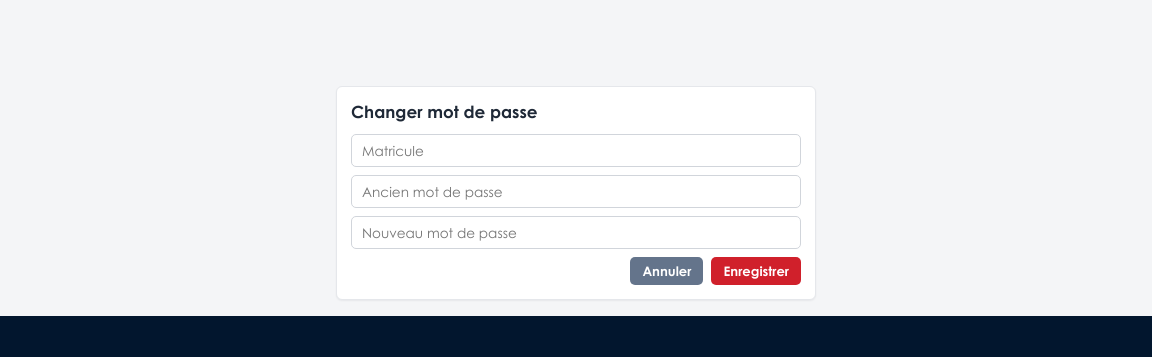
Test: ChangePassword › shows success message after successful password change
Step 1. Type "EMP01" into the field with placeholder "Matricule" → (576, 150), box [351,134,801,167]
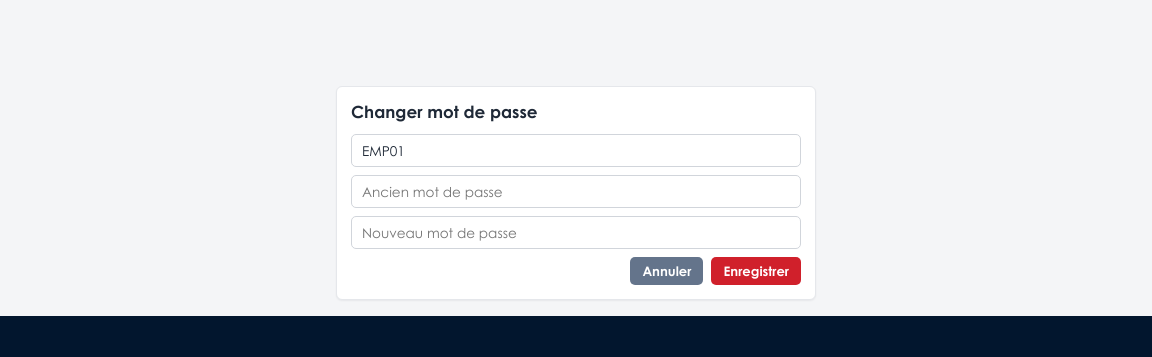
Step 2. Type "OldPass1!" into the password field with placeholder "Ancien mot de passe" → (576, 192), box [351,175,801,208]
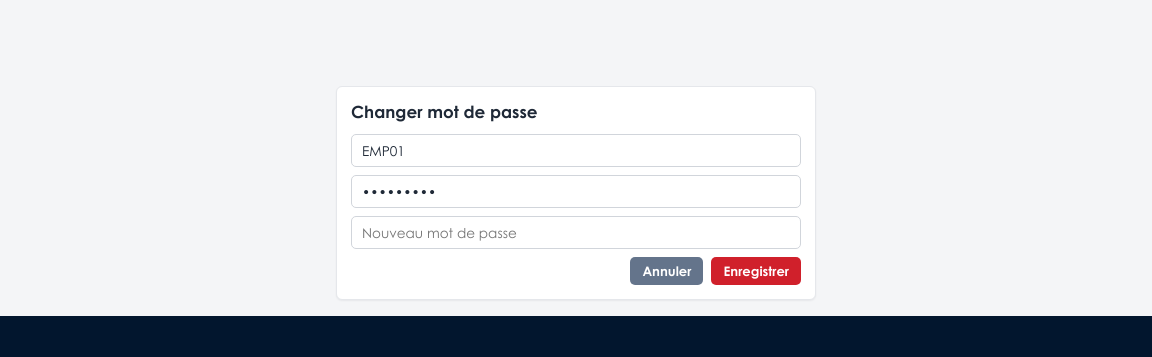
Step 3. Type "NewPass1!" into the password field with placeholder "Nouveau mot de passe" → (576, 232), box [351,216,801,249]
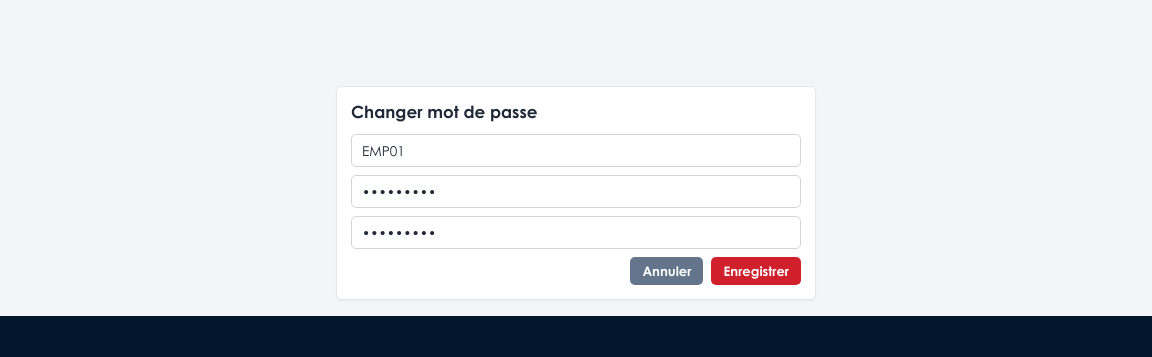
Step 4. Click the button "Enregistrer" → (756, 271), box [712,257,801,285]
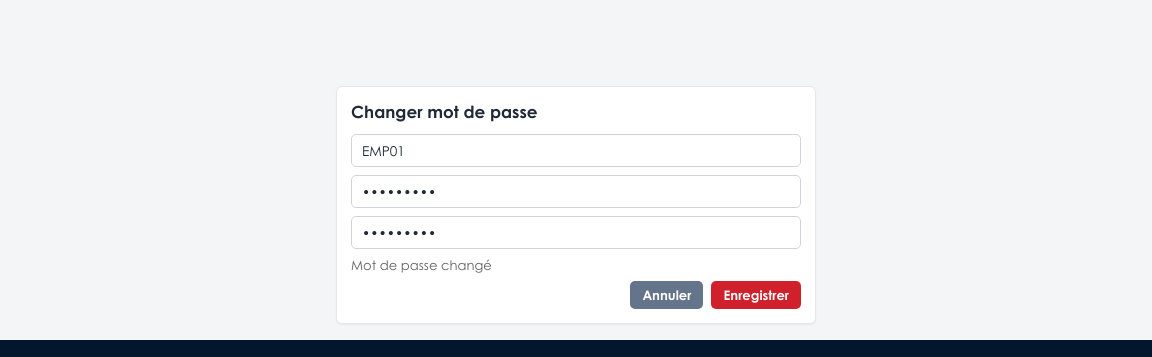
Result: the text "Mot de passe changé" is shown at [351,257,492,273]
